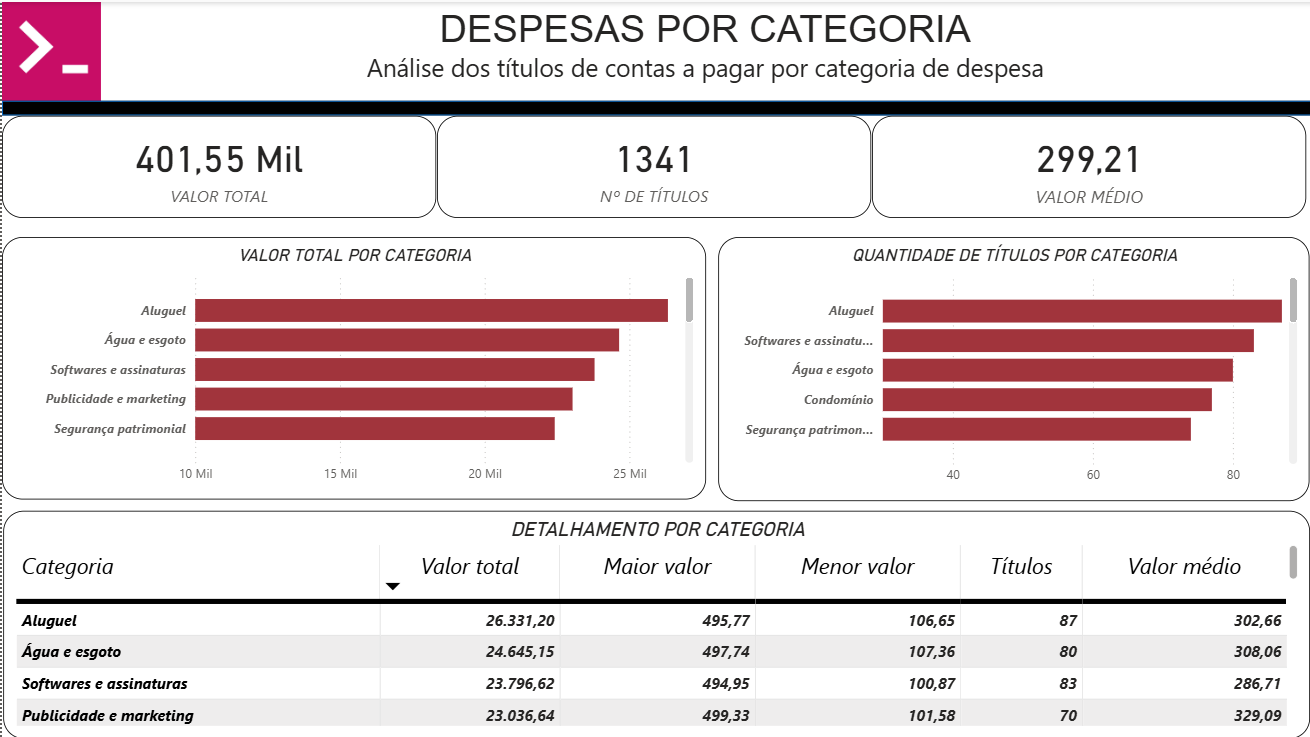

The dashboard page shown, as its layout file describes it:
{"tool":"powerbi","page":{"name":"PAINEL 1","canvas":[1280,720],"ordinal":0},"visuals":[{"type":"image","box":[0,0,97,97],"z":0},{"type":"shape","box":[0,97.1,1920.4,14.4],"z":1000},{"type":"textbox","box":[97.1,0,1182.9,97.1],"z":2000},{"type":"card","title":"VALOR TOTAL","fields":{"Values":["Sum(dw_pagamento_contas vw_despesas_categoria.valor_total)"]},"box":[0,111.4,425,100],"z":3000},{"type":"tableEx","title":"DETALHAMENTO POR CATEGORIA","fields":{"Values":["dw_pagamento_contas vw_despesas_categoria.categoria_despesa","dw_pagamento_contas vw_despesas_categoria.valor_total","dw_pagamento_contas vw_despesas_categoria.maior_valor","dw_pagamento_contas vw_despesas_categoria.menor_valor","dw_pagamento_contas vw_despesas_categoria.quantidade_titulos","dw_pagamento_contas vw_despesas_categoria.valor_medio"]},"box":[1.4,497.1,1278.6,222.9],"z":4000},{"type":"barChart","title":"VALOR TOTAL POR CATEGORIA","fields":{"Category":["dw_pagamento_contas vw_despesas_categoria.categoria_despesa"],"Y":["Sum(dw_pagamento_contas vw_despesas_categoria.valor_total)"]},"box":[0,229.9,688.5,256.8],"z":5000},{"type":"card","fields":{"Values":["Sum(dw_pagamento_contas vw_despesas_categoria.quantidade_titulos)"]},"box":[425.5,111.3,425,100],"z":6000},{"type":"card","fields":{"Values":["Avg(dw_pagamento_contas vw_despesas_categoria.valor_medio)"]},"box":[851.1,111.3,425,100],"z":7000},{"type":"clusteredBarChart","title":"QUANTIDADE DE TÍTULOS POR CATEGORIA","fields":{"Category":["dw_pagamento_contas vw_despesas_categoria.categoria_despesa"],"Y":["Sum(dw_pagamento_contas vw_despesas_categoria.quantidade_titulos)"]},"box":[700.7,229.9,578.4,258],"z":8000}]}

Visuals, with their boxes in screenshot pixels (x1, y1, x2, y2), scaled from the page's 1280x720 canvas onto the 1310x737 screenshot:
image: [0,0,99,99]
shape: [0,99,1309,114]
textbox: [99,0,1309,99]
"VALOR TOTAL" card: [0,114,435,216]
"DETALHAMENTO POR CATEGORIA" tableEx: [1,509,1309,736]
"VALOR TOTAL POR CATEGORIA" barChart: [0,235,705,498]
card - Sum(dw_pagamento_contas vw_despesas_categoria.quantidade_titulos): [435,114,870,216]
card - Avg(dw_pagamento_contas vw_despesas_categoria.valor_medio): [871,114,1306,216]
"QUANTIDADE DE TÍTULOS POR CATEGORIA" clusteredBarChart: [717,235,1309,499]
